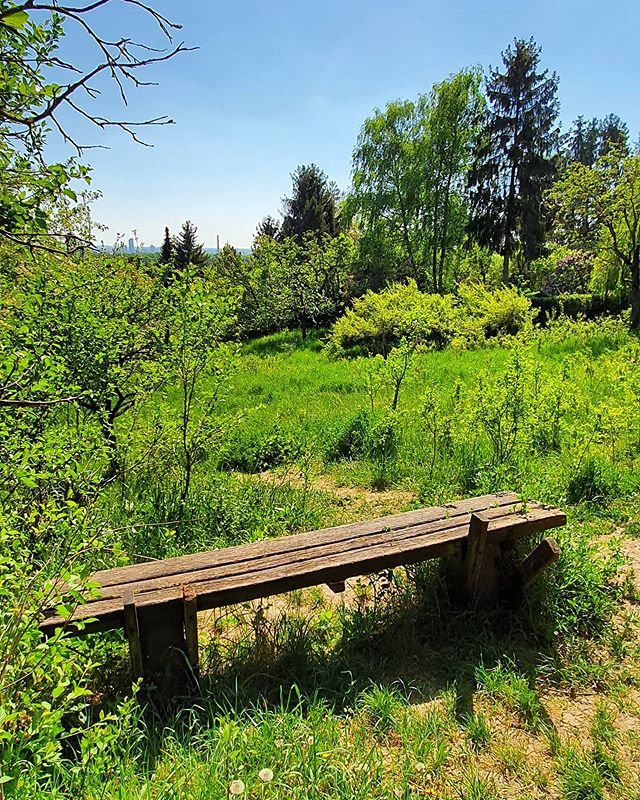bench: (44, 480, 589, 709)
grass: (83, 326, 640, 513)
sky: (82, 1, 640, 239)
tree: (1, 236, 219, 546), (336, 75, 484, 364), (465, 55, 572, 300), (244, 157, 334, 318), (570, 158, 640, 347), (136, 219, 211, 330)
